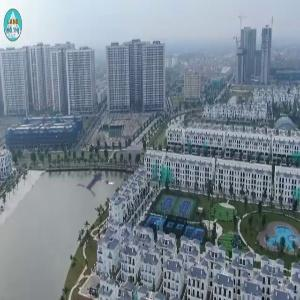drone: (77, 159, 118, 200)
